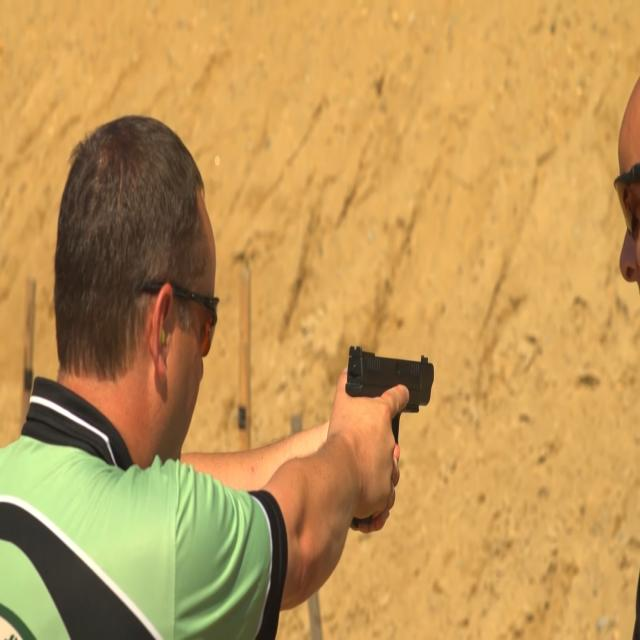Gun_Holder: (334, 331, 476, 568)
Person: (1, 111, 389, 640)
